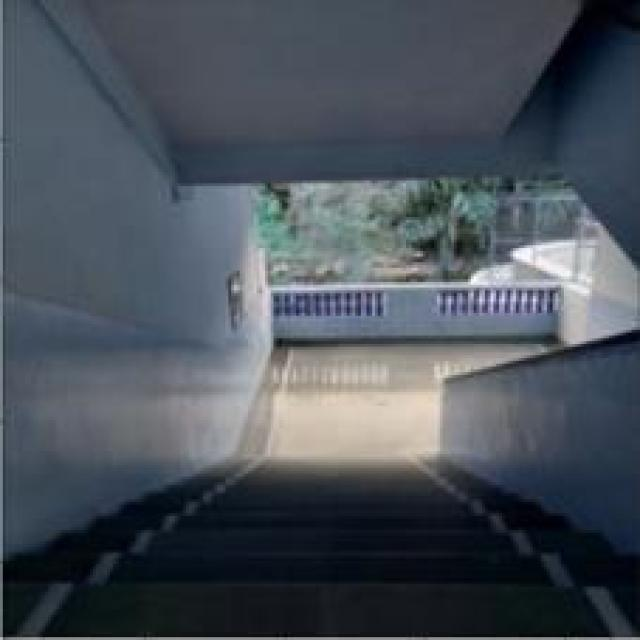downstair: (145, 452, 461, 616)
